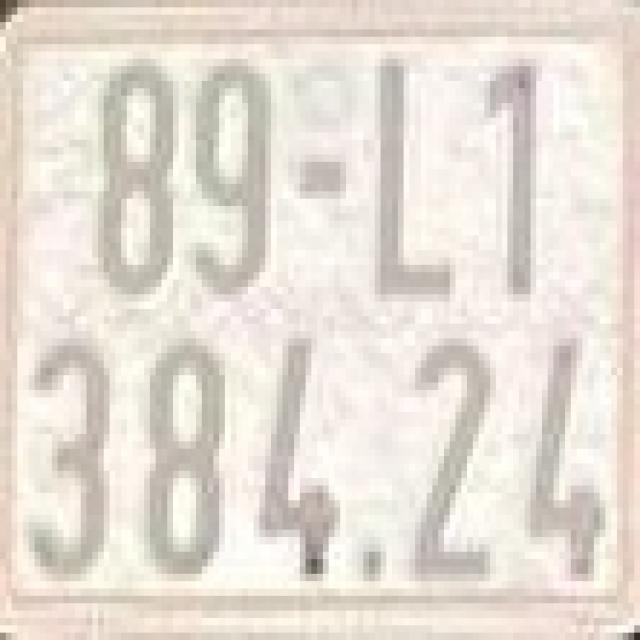1: (478, 51, 548, 302)
2: (398, 331, 496, 581)
3: (22, 338, 116, 574)
4: (524, 331, 612, 581), (254, 331, 340, 581)
8: (138, 331, 231, 574), (92, 52, 185, 294)
9: (190, 52, 276, 294)
L: (364, 51, 462, 302)
